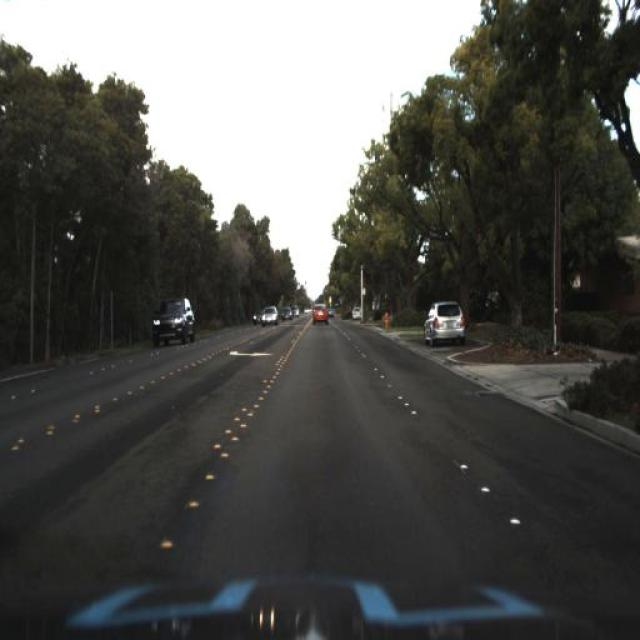car: (146, 290, 202, 350), (420, 296, 466, 344), (308, 294, 334, 330), (258, 300, 280, 330), (260, 304, 280, 328)
